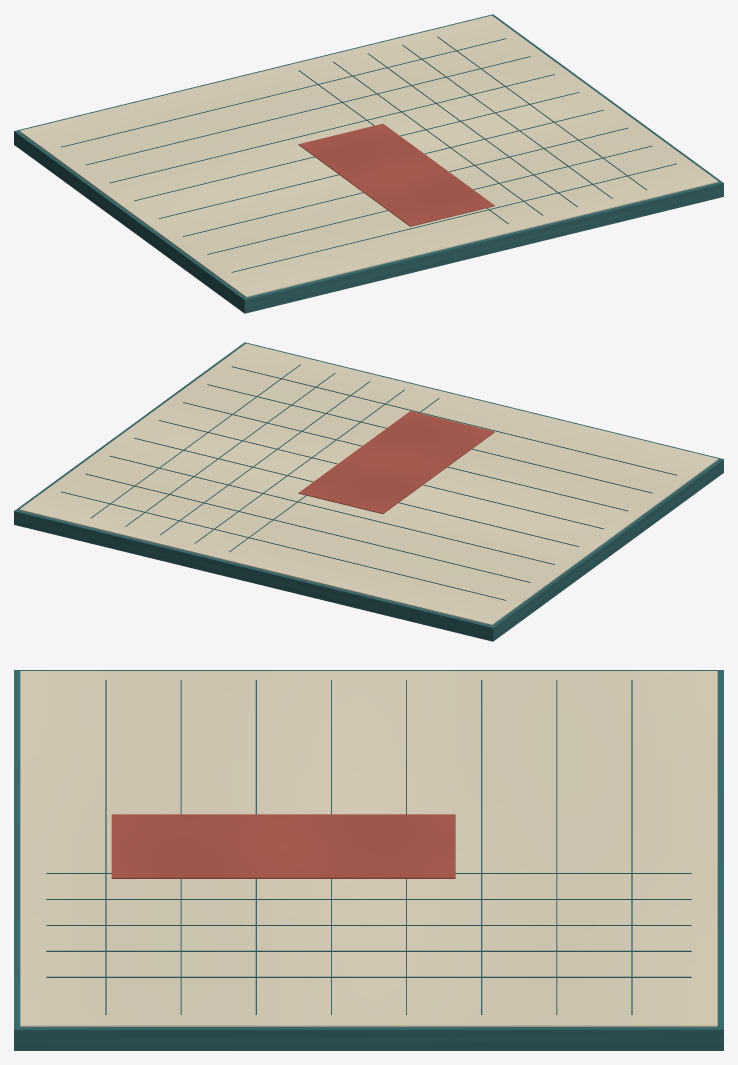
Rendered from atlas100-s034-a07.lod2.glb.
The picture shows the model from 3 angles, top to bottom: view 1: azimuth 30°, elevation 25°; view 2: azimuth 150°, elevation 25°; view 3: azimuth 270°, elevation 25°; orthographic projection. The views are drawn at different scales.
Visible parts, largest first — view 1: atlas100-s034-a07:part-001, atlas100-s034-a07:part-000, atlas100-s034-a07:part-021, atlas100-s034-a07:part-020, atlas100-s034-a07:part-014, atlas100-s034-a07:part-013, atlas100-s034-a07:part-015, atlas100-s034-a07:part-016, atlas100-s034-a07:part-018, atlas100-s034-a07:part-019, atlas100-s034-a07:part-017; view 2: atlas100-s034-a07:part-001, atlas100-s034-a07:part-000, atlas100-s034-a07:part-021, atlas100-s034-a07:part-013, atlas100-s034-a07:part-014, atlas100-s034-a07:part-015, atlas100-s034-a07:part-020, atlas100-s034-a07:part-017, atlas100-s034-a07:part-019, atlas100-s034-a07:part-018, atlas100-s034-a07:part-016; view 3: atlas100-s034-a07:part-001, atlas100-s034-a07:part-000, atlas100-s034-a07:part-021, atlas100-s034-a07:part-011, atlas100-s034-a07:part-012, atlas100-s034-a07:part-013, atlas100-s034-a07:part-014, atlas100-s034-a07:part-015, atlas100-s034-a07:part-020, atlas100-s034-a07:part-010, atlas100-s034-a07:part-009.
Part boxes in pixels (x1,y1,x2,y2): atlas100-s034-a07:part-001: [19, 15, 718, 297]; atlas100-s034-a07:part-000: [14, 14, 723, 313]; atlas100-s034-a07:part-021: [298, 123, 494, 226]; atlas100-s034-a07:part-020: [231, 163, 676, 272]; atlas100-s034-a07:part-014: [85, 56, 530, 165]; atlas100-s034-a07:part-013: [61, 38, 505, 147]; atlas100-s034-a07:part-015: [110, 74, 554, 183]; atlas100-s034-a07:part-016: [134, 92, 579, 201]; atlas100-s034-a07:part-018: [183, 127, 627, 236]; atlas100-s034-a07:part-019: [207, 145, 652, 254]; atlas100-s034-a07:part-017: [158, 110, 603, 218]; atlas100-s034-a07:part-001: [19, 343, 718, 625]; atlas100-s034-a07:part-000: [14, 342, 723, 641]; atlas100-s034-a07:part-021: [298, 411, 494, 513]; atlas100-s034-a07:part-013: [61, 491, 506, 600]; atlas100-s034-a07:part-014: [85, 473, 530, 582]; atlas100-s034-a07:part-015: [110, 455, 554, 564]; atlas100-s034-a07:part-020: [232, 366, 676, 475]; atlas100-s034-a07:part-017: [158, 420, 603, 529]; atlas100-s034-a07:part-019: [207, 384, 652, 493]; atlas100-s034-a07:part-018: [183, 402, 627, 511]; atlas100-s034-a07:part-016: [134, 438, 579, 546]; atlas100-s034-a07:part-001: [20, 671, 717, 1026]; atlas100-s034-a07:part-000: [14, 670, 723, 1050]; atlas100-s034-a07:part-021: [111, 814, 455, 878]; atlas100-s034-a07:part-011: [46, 950, 691, 951]; atlas100-s034-a07:part-012: [46, 976, 691, 977]; atlas100-s034-a07:part-013: [631, 680, 632, 1014]; atlas100-s034-a07:part-014: [556, 680, 557, 1014]; atlas100-s034-a07:part-015: [481, 680, 482, 1014]; atlas100-s034-a07:part-020: [105, 680, 106, 1014]; atlas100-s034-a07:part-010: [46, 925, 691, 925]; atlas100-s034-a07:part-009: [46, 899, 691, 899].
Bounding box in the file's own units: 12.46 × 0.404 × 10.4.
Materials: 3 (3 with a texture image).
